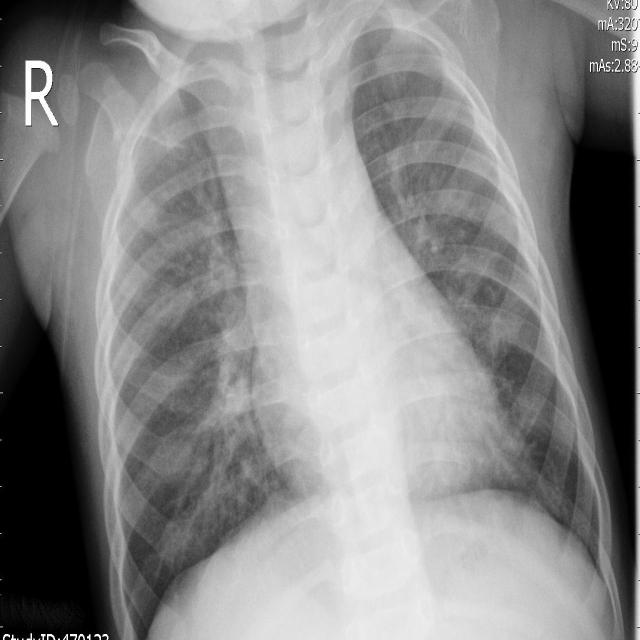low-pneumonia: (202, 258, 266, 478)
